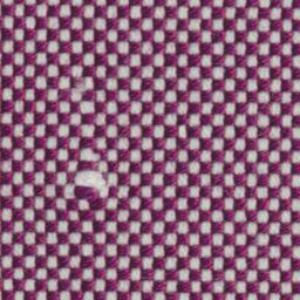defect: (64, 74, 111, 214)
